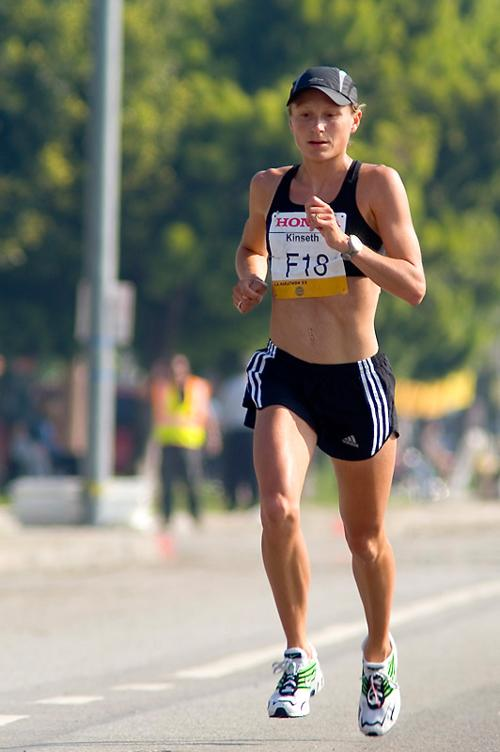person: (231, 63, 428, 738)
